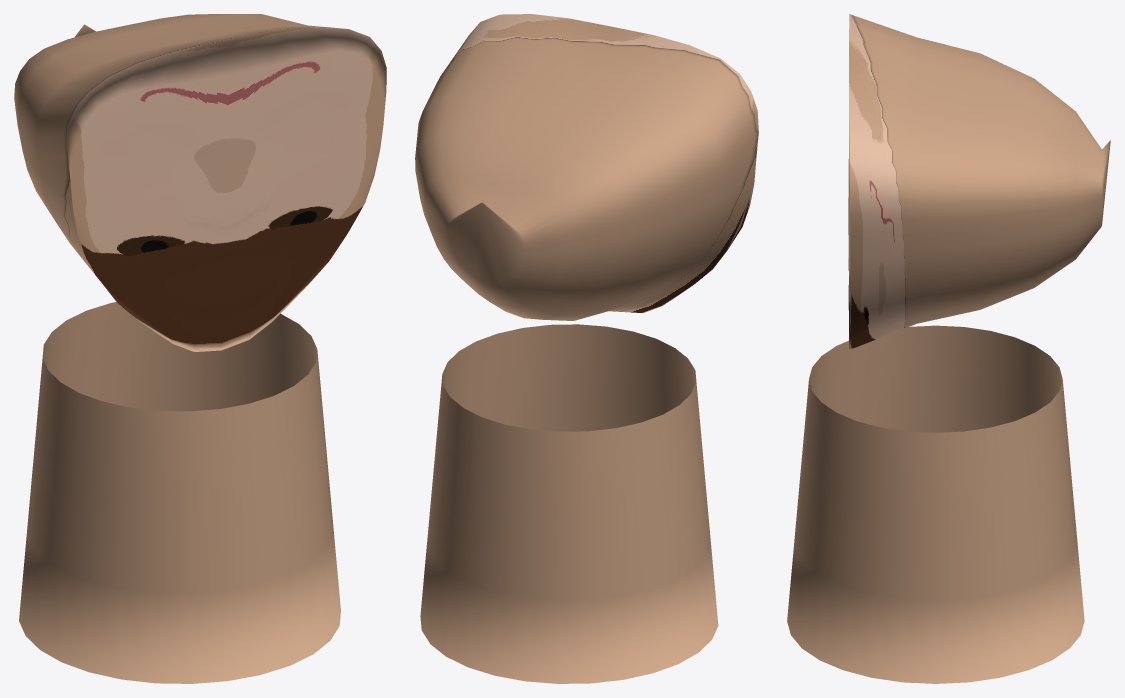
3 renders of one model, left to right at view 1: azimuth 30°, elevation 25°; view 2: azimuth 150°, elevation 25°; view 3: azimuth 270°, elevation 25°, orthographic. The views are drawn at different scales.
Visible parts, largest first — view 1: AvatarHead; view 2: AvatarHead; view 3: AvatarHead.
Boxes of the visible parts, <box> form: AvatarHead: <box>14,14,386,683</box>; AvatarHead: <box>415,14,758,683</box>; AvatarHead: <box>787,14,1110,683</box>.
Bounding box in the file's own units: 0.155 × 0.2832 × 0.148.
Materials: 1 (1 with a texture image).
